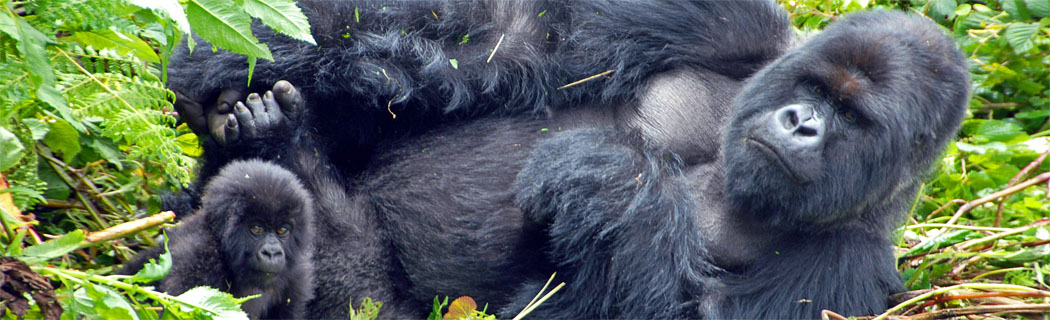Goriila: (632, 10, 957, 320), (149, 142, 334, 315)
